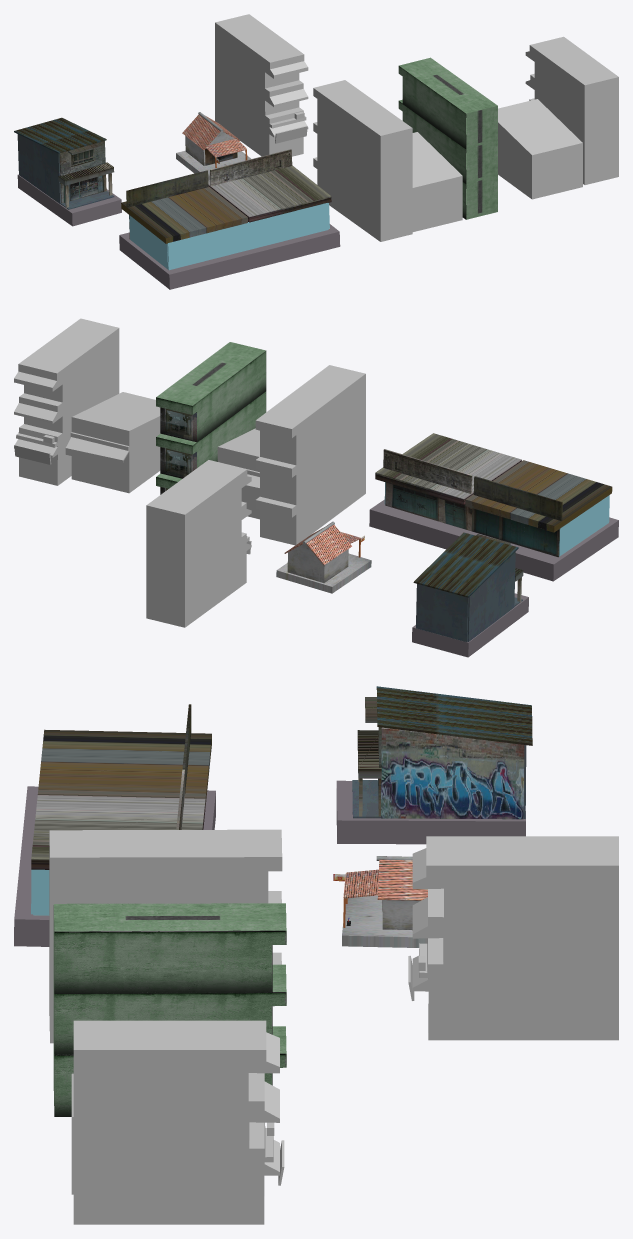
3 renders of one model, top to bottom at view 1: azimuth 30°, elevation 25°; view 2: azimuth 150°, elevation 25°; view 3: azimuth 270°, elevation 25°, orthographic. The views are drawn at different scales.
Visible parts, largest first — view 1: toko5.001, Plane.014, Plane.016, toko9.001, taphoa2.005, nha_tang.014, nha_tang.015, taphoa2 (2).003, nha_tang.021, nha_tang.020, tambalban.001, nha_tang.019 (+1 smaller); view 2: toko5.001, Plane.014, Plane.016, toko9.001, taphoa2.005, nha_tang.014, nha_tang.015, nha_tang.020, nha_tang.021, tambalban.001, nha_tang.019, taphoa2 (2).003; view 3: Plane.016, Plane.014, toko9.001, toko5.001, nha_tang.014, nha_tang.015, nha_tang.019, tambalban.001, nha_tang.018.
Boxes of the visible parts, x1,y1,x2,y2 form: toko5.001: (119,149,340,289); Plane.014: (215,14,308,156); Plane.016: (525,36,618,184); toko9.001: (14,117,121,226); taphoa2.005: (498,99,582,199); nha_tang.014: (398,57,497,149); nha_tang.015: (313,80,412,171); taphoa2 (2).003: (412,132,462,231); nha_tang.021: (313,122,412,206); nha_tang.020: (313,157,412,241); tambalban.001: (176,112,250,180); nha_tang.019: (398,99,497,184); toko5.001: (369,433,618,581); Plane.014: (146,460,251,627); Plane.016: (14,318,119,485); toko9.001: (412,532,528,657); taphoa2.005: (65,392,160,493); nha_tang.014: (156,342,266,442); nha_tang.015: (255,365,365,465); nha_tang.020: (255,453,365,545); nha_tang.021: (255,414,365,505); tambalban.001: (276,521,371,593); nha_tang.019: (156,391,266,478); taphoa2 (2).003: (217,428,259,519); Plane.016: (73,1020,284,1224); Plane.014: (408,836,618,1040); toko9.001: (336,686,532,844); toko5.001: (14,704,215,946); nha_tang.014: (53,903,286,993); nha_tang.015: (49,829,282,920); nha_tang.019: (53,964,286,1055); tambalban.001: (333,856,427,947); nha_tang.018: (53,1026,286,1116).
Size of the model in its own units: 584 by 126 by 369.
